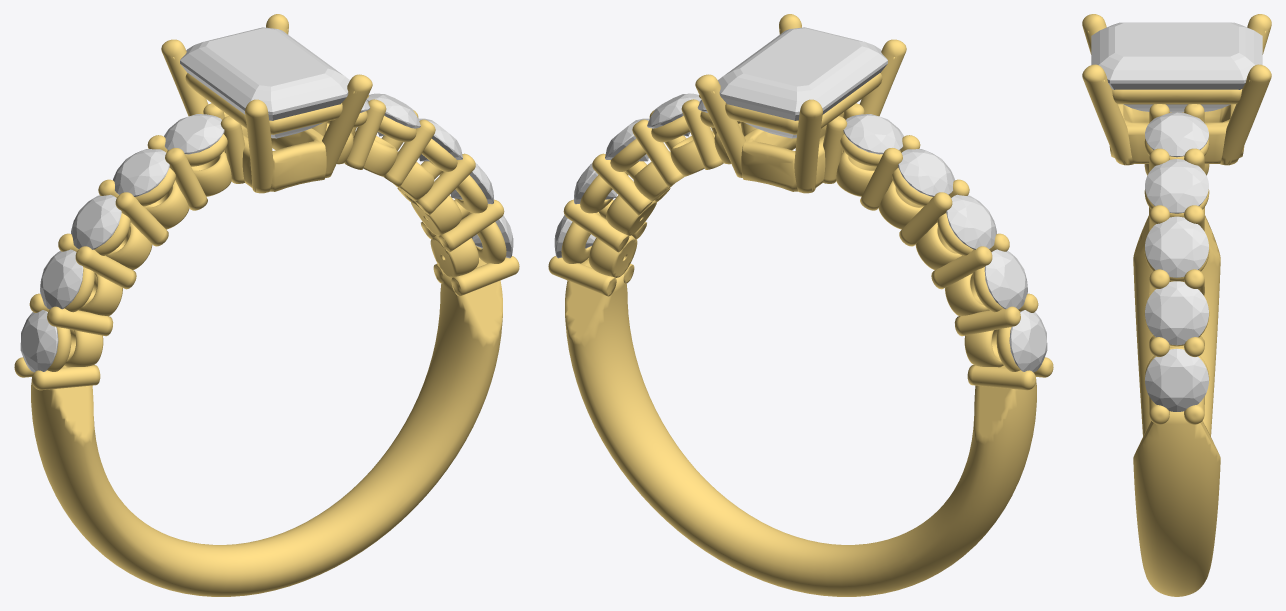
The model's file is diamond-emerald-yellowgold-4prong-taperedband-11stone.glb.
3 renders of one model, left to right at view 1: azimuth 30°, elevation 25°; view 2: azimuth 150°, elevation 25°; view 3: azimuth 270°, elevation 25°, orthographic.
Visible parts, largest first — view 1: metal, stone, side.004, side.003, side.005, side, side.006, side.010; view 2: metal, stone, side.004, side.003, side.005, side, side.006, side.010; view 3: metal, stone, side.008, side.007, side.009, side.010, side.011.
Boxes of the visible parts, left/top/right/bottom form: metal: left=14, top=14, right=519, bottom=596; stone: left=180, top=27, right=349, bottom=138; side.004: left=71, top=194, right=121, bottom=249; side.003: left=40, top=249, right=83, bottom=309; side.005: left=113, top=149, right=169, bottom=196; side: left=20, top=310, right=58, bottom=372; side.006: left=164, top=114, right=224, bottom=154; side.010: left=366, top=93, right=420, bottom=136; metal: left=548, top=14, right=1053, bottom=596; stone: left=718, top=27, right=887, bottom=138; side.004: left=946, top=194, right=996, bottom=249; side.003: left=984, top=249, right=1027, bottom=309; side.005: left=898, top=149, right=954, bottom=196; side: left=1009, top=310, right=1047, bottom=372; side.006: left=843, top=114, right=903, bottom=154; side.010: left=647, top=93, right=701, bottom=136; metal: left=1082, top=14, right=1271, bottom=596; stone: left=1091, top=22, right=1262, bottom=112; side.008: left=1145, top=281, right=1208, bottom=345; side.007: left=1145, top=348, right=1208, bottom=411; side.009: left=1145, top=216, right=1208, bottom=277; side.010: left=1145, top=159, right=1208, bottom=213; side.011: left=1145, top=112, right=1208, bottom=157.
Size of the model in its own units: 21.87 by 22.94 by 7.4.
